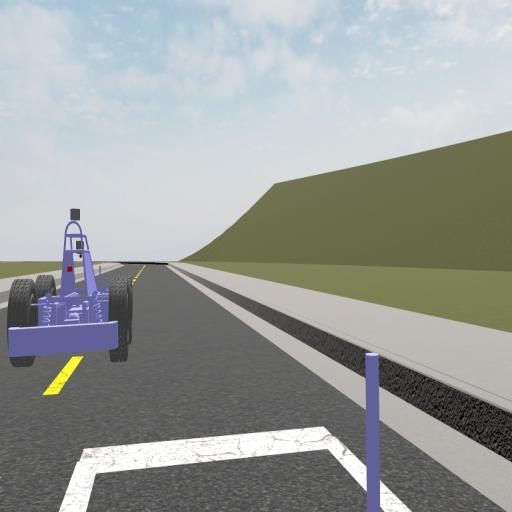ERP-42: (6, 207, 134, 368)
